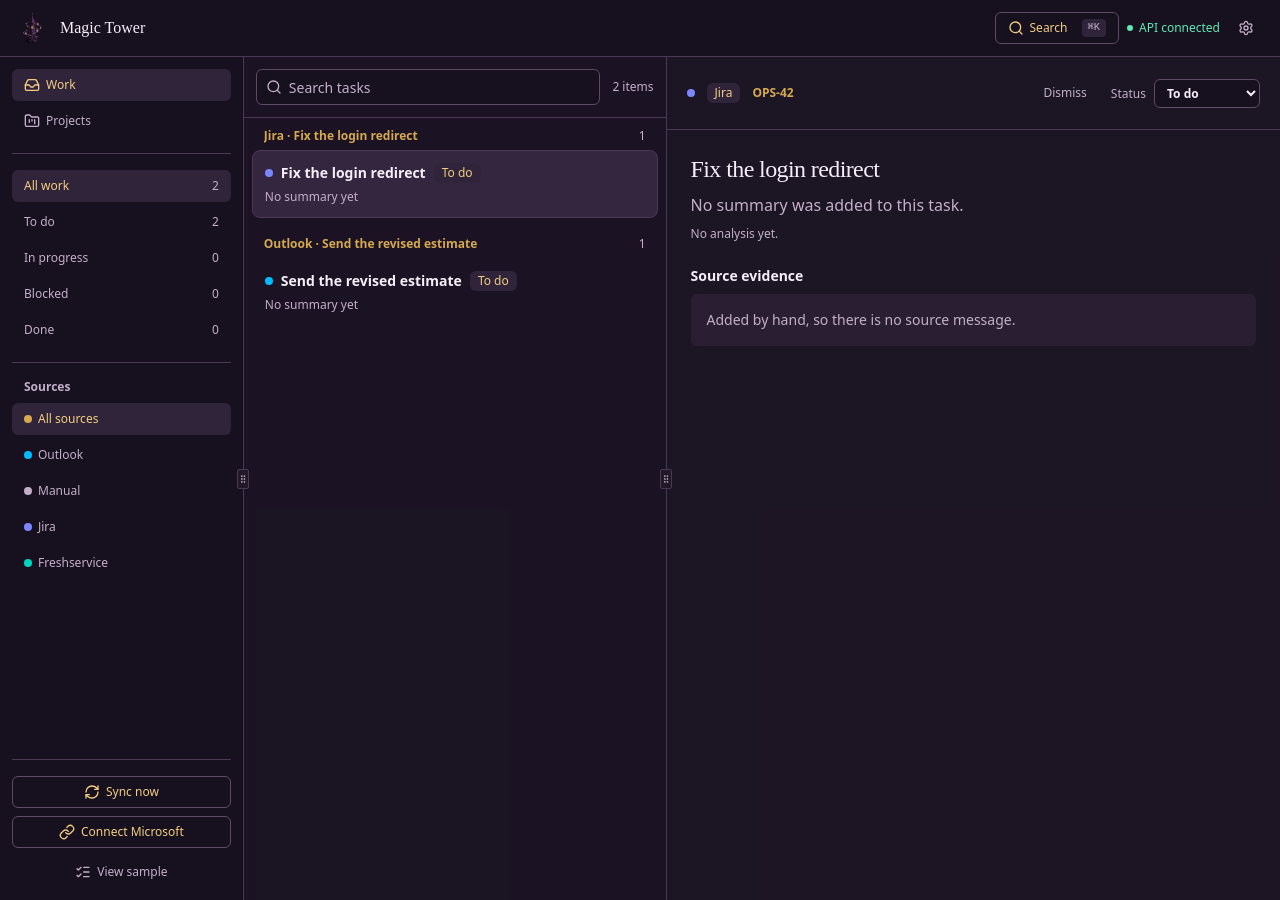
Test: Jira work items › the jira source filter shows only jira items
Expected: the text "Fix the login redirect" is shown, x1=281 y1=163 x2=426 y2=183
Click the button "Jira".
click(121, 527)  # box x1=12 y1=511 x2=231 y2=543
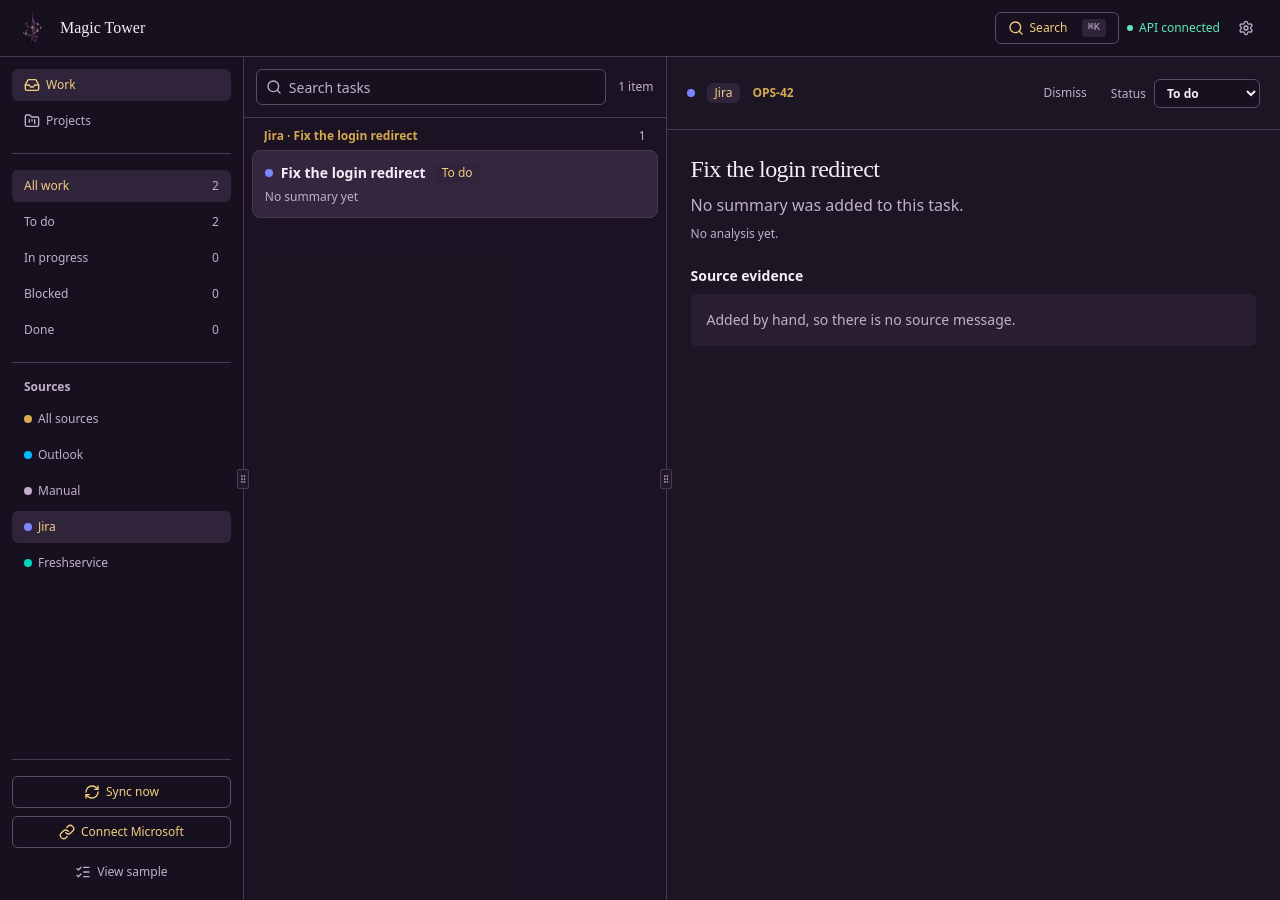
Expected: the text "Fix the login redirect" is shown, x1=281 y1=163 x2=426 y2=183
Now the heading "Send the revised estimate" is gone
